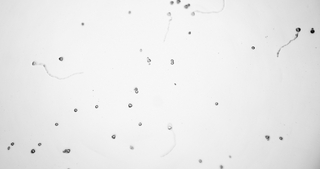germinated: (30, 59, 41, 67), (166, 11, 174, 21), (294, 25, 301, 36), (166, 121, 173, 132), (190, 9, 199, 16)
nongerminated: (56, 55, 64, 63), (168, 57, 177, 64), (128, 143, 135, 152), (63, 146, 70, 155), (309, 27, 316, 35), (263, 133, 271, 140), (196, 157, 203, 165), (72, 106, 79, 114), (51, 121, 59, 128), (218, 162, 225, 169), (277, 135, 284, 142), (136, 120, 143, 127), (93, 103, 100, 110), (29, 147, 36, 154), (250, 43, 256, 50), (213, 100, 220, 106), (138, 46, 144, 53), (126, 8, 133, 14), (127, 102, 133, 109), (110, 133, 116, 140), (36, 140, 42, 147), (10, 140, 16, 147), (181, 4, 189, 9), (168, 0, 174, 6), (146, 57, 152, 63), (79, 21, 85, 27), (175, 0, 182, 5), (6, 144, 11, 151), (186, 29, 191, 35), (133, 85, 139, 90), (134, 90, 140, 95), (187, 2, 192, 7)
